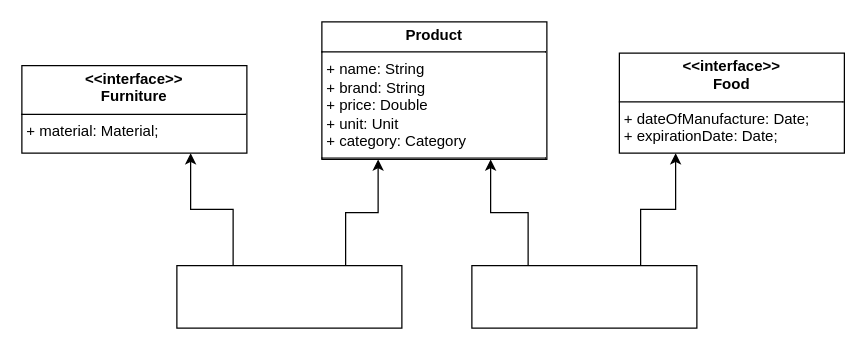
This 866x350 diagram has some shape labels left out. Here are the shapes that lost their labels. From the top down, the centre of each, then its label:
the point at 289,296: Chair
the point at 584,296: Biscuit
